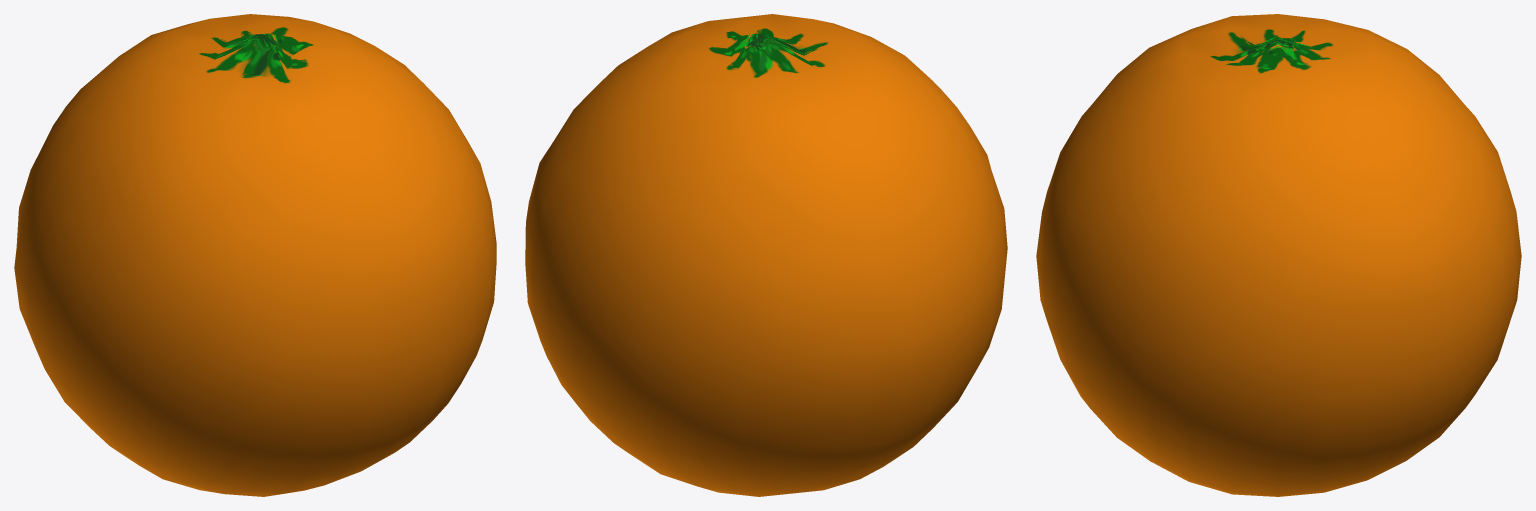
Rendered from orange.fbx.
The picture shows the model from 3 angles, left to right: view 1: azimuth 30°, elevation 25°; view 2: azimuth 150°, elevation 25°; view 3: azimuth 270°, elevation 25°; orthographic projection.
Parts seen in each view (by area): view 1: sphere; view 2: sphere; view 3: sphere.
Part boxes in pixels (x1,y1,x2,y2): sphere: [14, 14, 496, 496]; sphere: [525, 14, 1007, 496]; sphere: [1036, 14, 1521, 496].
Size of the model in its own units: 209 by 208 by 209.
Materials: 1 (1 with a texture image).
